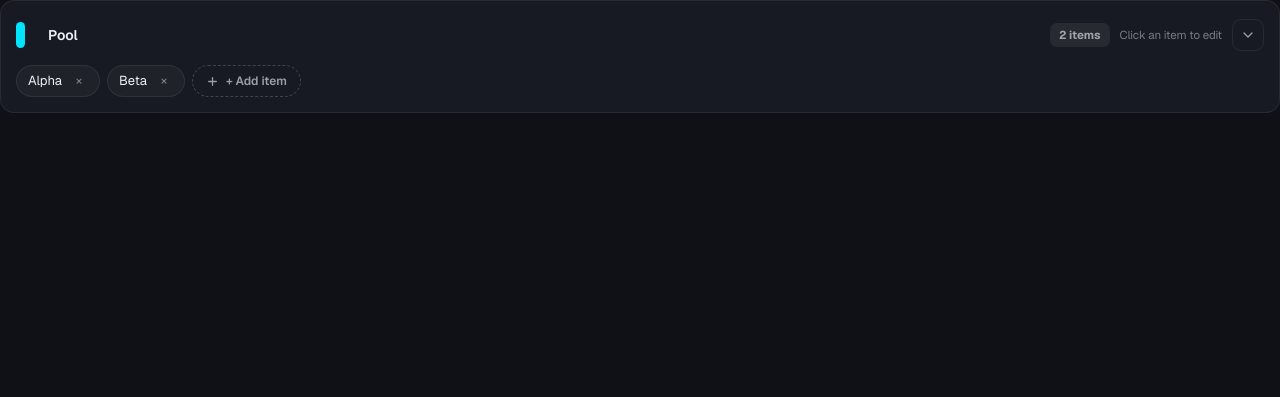
Test case: GroupEditor editing an added item › drops out of edit mode when the edited item is removed
Click the button with aria-label "Edit Alpha".
click(45, 81)  # box [28, 71, 62, 91]
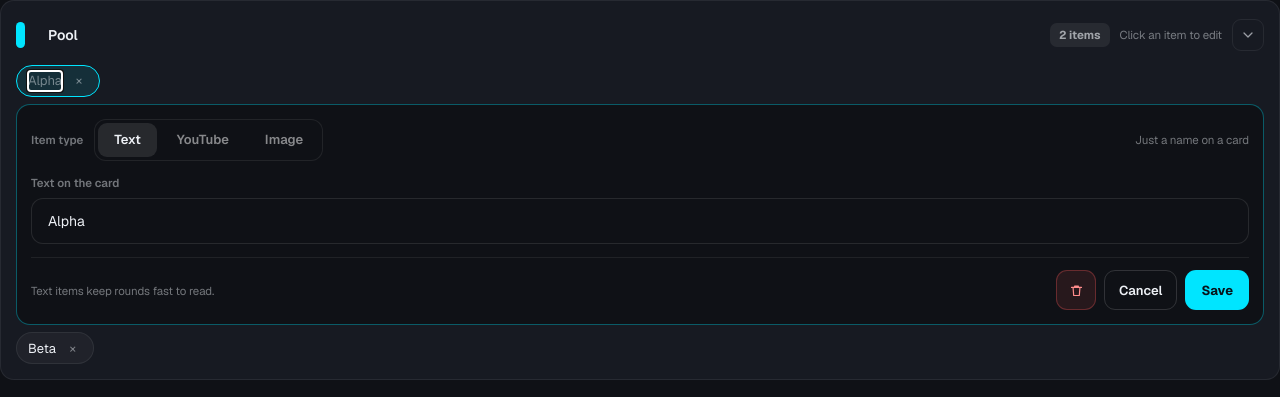
Click the button named "Remove Alpha".
click(79, 81)  # box [70, 72, 88, 90]
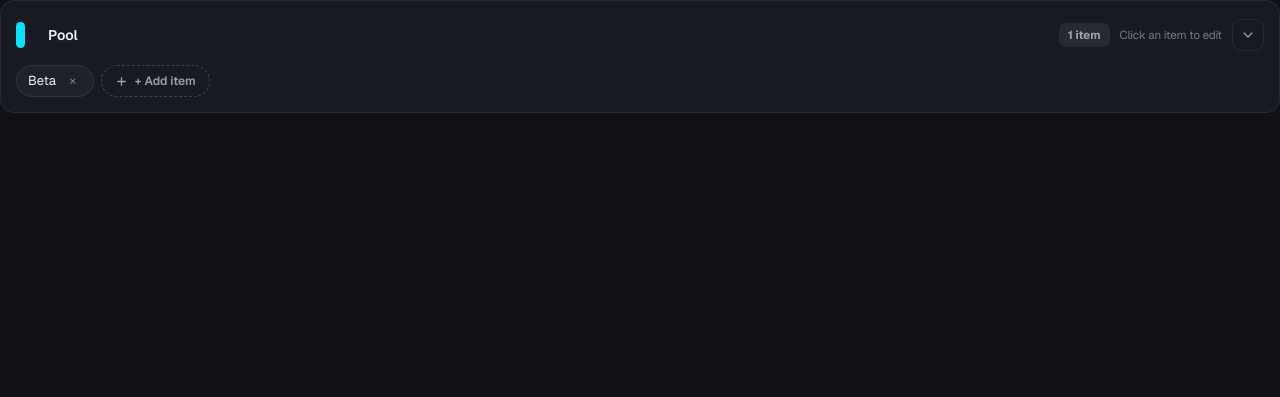
Check: the button "+ Add item" is shown, box [101, 65, 210, 97]
